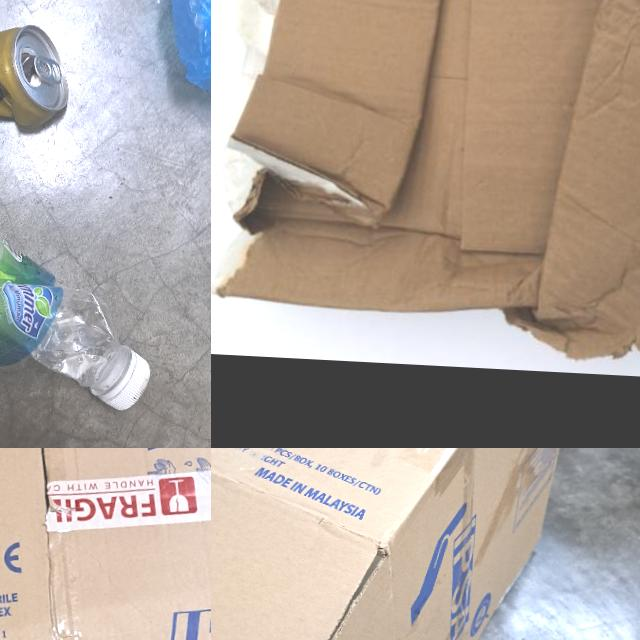aba de lata: (28, 47, 64, 87)
garrafa plástica: (0, 178, 126, 407)
lata: (0, 6, 76, 151)
papelão: (211, 0, 640, 367), (211, 448, 596, 640), (0, 448, 211, 640)
sacola plástica: (123, 0, 211, 95)
tampa plástica: (102, 341, 154, 414)
